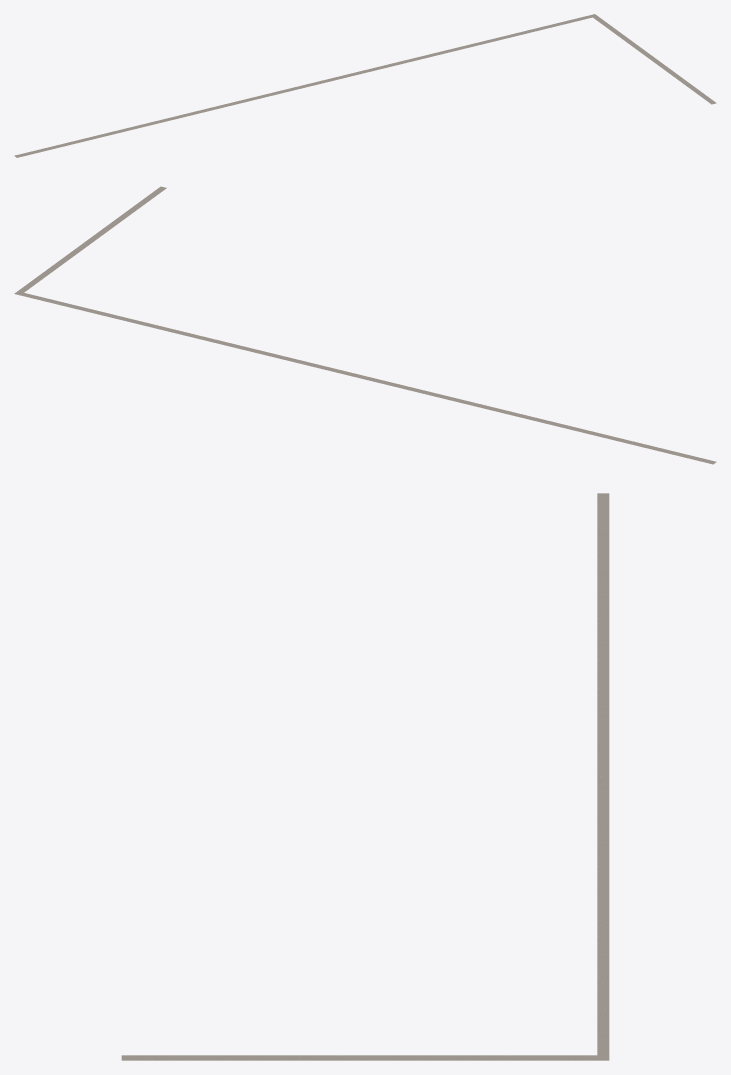
Rendered from kd_stage_135ded_4_82_exterior_piece_1.glb.
3 views of the same model, one above another, from view 1: azimuth 30°, elevation 25°; view 2: azimuth 150°, elevation 25°; view 3: azimuth 270°, elevation 25° (orthographic). The views are drawn at different scales.
Parts seen in each view (by area): view 1: kd_stage_135ded_4_82_exterior_piece_1; view 2: kd_stage_135ded_4_82_exterior_piece_1; view 3: kd_stage_135ded_4_82_exterior_piece_1.
Boxes of the visible parts, box(x1,y1,x2,y2) form: kd_stage_135ded_4_82_exterior_piece_1: box(14, 14, 716, 157); kd_stage_135ded_4_82_exterior_piece_1: box(14, 186, 716, 464); kd_stage_135ded_4_82_exterior_piece_1: box(121, 493, 609, 1060).
Size of the model in its own units: 2.2 by 5.96e-08 by 0.8.
Materials: 1 (1 with a texture image).
